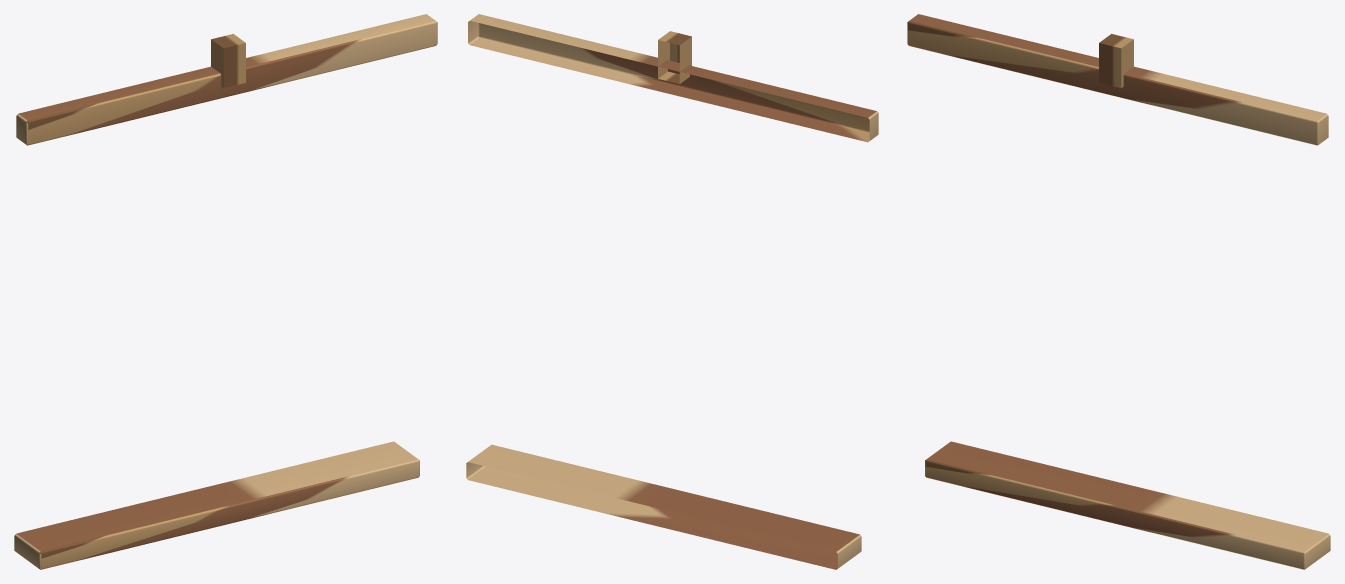
Rendered from DBK_WinBig_Trim_D_Full.fbx.
3 views of the same model, side by side, from view 1: azimuth 30°, elevation 25°; view 2: azimuth 150°, elevation 25°; view 3: azimuth 330°, elevation 25° (orthographic). The views are drawn at different scales.
Visible parts, largest first — view 1: DBK_WinBig_Trim_D_Full; view 2: DBK_WinBig_Trim_D_Full; view 3: DBK_WinBig_Trim_D_Full.
Part boxes in pixels (box(x1,y1,x2,y2)): DBK_WinBig_Trim_D_Full: box(14, 14, 437, 569); DBK_WinBig_Trim_D_Full: box(466, 14, 878, 569); DBK_WinBig_Trim_D_Full: box(907, 14, 1330, 569).
Size of the model in its own units: 220 by 246 by 27.49.
